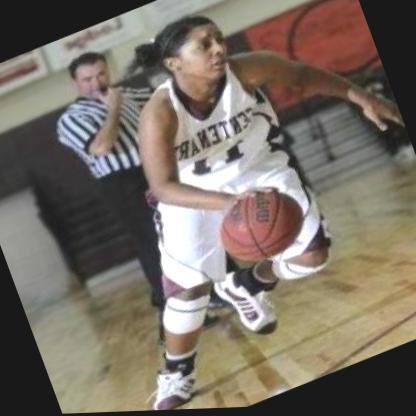basketball: (203, 175, 319, 283)
